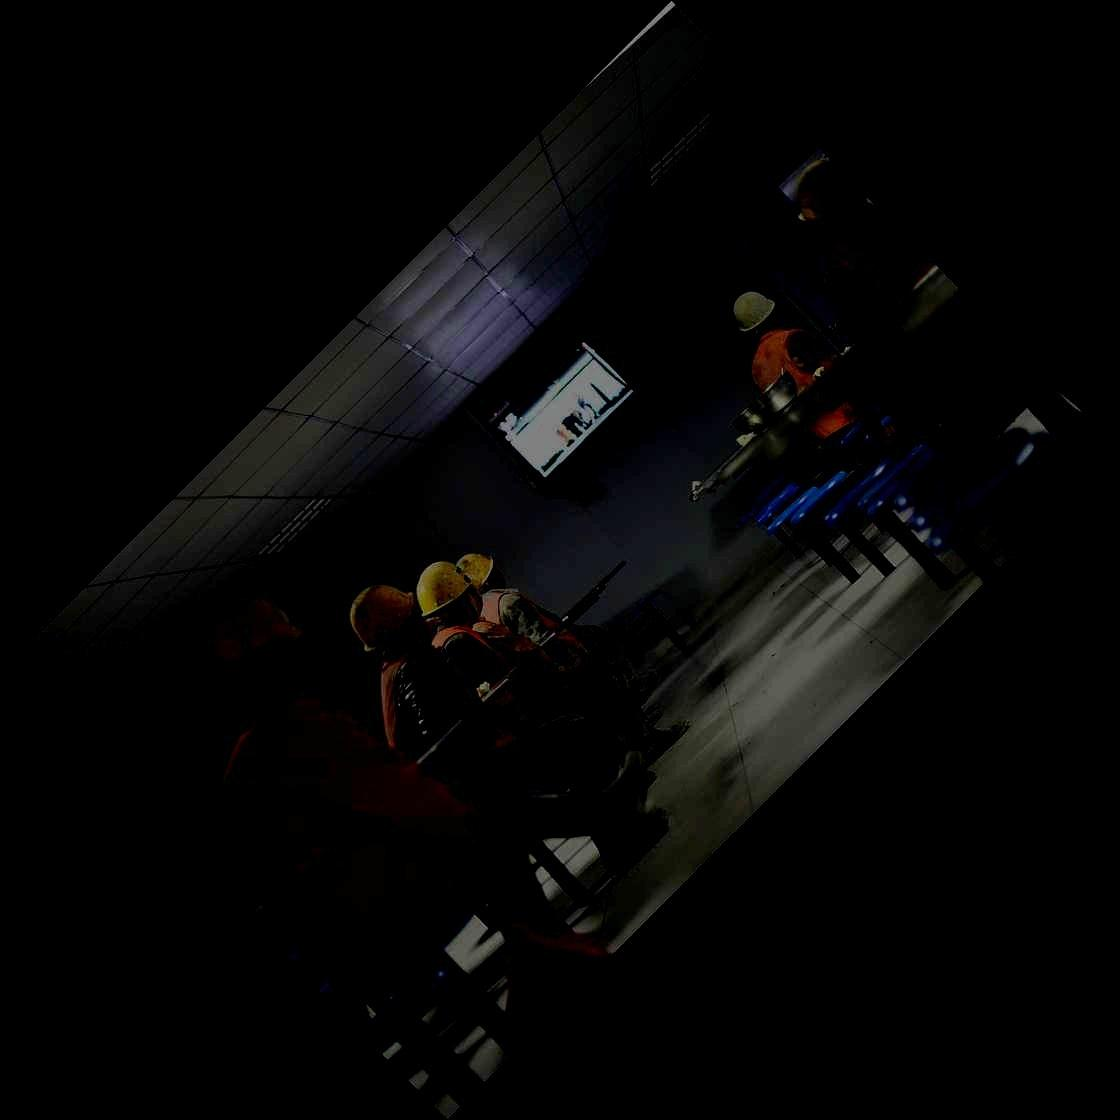helmet: (349, 584, 425, 655), (416, 562, 483, 628), (733, 292, 775, 333), (456, 553, 494, 594)
